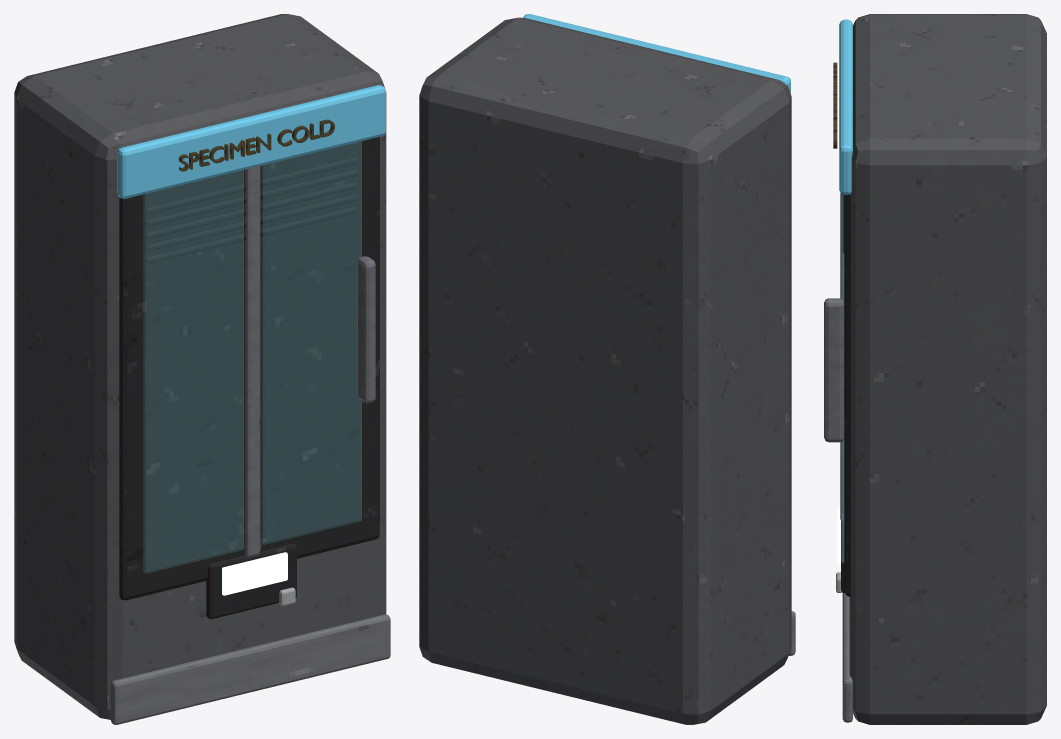
The model's file is decor_med_specimen_cold.glb.
The picture shows the model from 3 angles, left to right: view 1: azimuth 30°, elevation 25°; view 2: azimuth 150°, elevation 25°; view 3: azimuth 270°, elevation 25°; orthographic projection.
Parts seen in each view (by area): view 1: DEC_MedSpecimenCold__Cabinet_Body, DEC_MedSpecimenCold__Door_Frame, DEC_MedSpecimenCold__Door_Glass_1, DEC_MedSpecimenCold__Door_Glass_2, DEC_MedSpecimenCold__Kick_Plate, DEC_MedSpecimenCold__Header, DEC_MedSpecimenCold__Door_Mullion, DEC_MedSpecimenCold__Control_Panel, DEC_MedSpecimenCold__Door_Handle, DEC_MedSpecimenCold__Temperature_Readout, DEC_MedSpecimenCold__Header_Text, DEC_MedSpecimenCold__Vent_Slat_1 (+4 smaller); view 2: DEC_MedSpecimenCold__Cabinet_Body, DEC_MedSpecimenCold__Header; view 3: DEC_MedSpecimenCold__Cabinet_Body, DEC_MedSpecimenCold__Door_Handle, DEC_MedSpecimenCold__Door_Frame, DEC_MedSpecimenCold__Header, DEC_MedSpecimenCold__Kick_Plate, DEC_MedSpecimenCold__Door_Glass_2, DEC_MedSpecimenCold__Door_Mullion, DEC_MedSpecimenCold__Header_Text.
Boxes of the visible parts, x1=… form: DEC_MedSpecimenCold__Cabinet_Body: x1=14, y1=14, x2=386, y2=719; DEC_MedSpecimenCold__Door_Frame: x1=119, y1=137, x2=379, y2=600; DEC_MedSpecimenCold__Door_Glass_1: x1=143, y1=170, x2=243, y2=573; DEC_MedSpecimenCold__Door_Glass_2: x1=261, y1=141, x2=361, y2=544; DEC_MedSpecimenCold__Kick_Plate: x1=110, y1=614, x2=390, y2=724; DEC_MedSpecimenCold__Header: x1=117, y1=85, x2=385, y2=198; DEC_MedSpecimenCold__Door_Mullion: x1=245, y1=165, x2=260, y2=557; DEC_MedSpecimenCold__Control_Panel: x1=206, y1=543, x2=296, y2=618; DEC_MedSpecimenCold__Door_Handle: x1=357, y1=256, x2=375, y2=403; DEC_MedSpecimenCold__Temperature_Readout: x1=222, y1=552, x2=287, y2=595; DEC_MedSpecimenCold__Header_Text: x1=178, y1=119, x2=334, y2=171; DEC_MedSpecimenCold__Vent_Slat_1: x1=146, y1=157, x2=358, y2=214; DEC_MedSpecimenCold__Cabinet_Body: x1=419, y1=17, x2=791, y2=724; DEC_MedSpecimenCold__Header: x1=523, y1=14, x2=790, y2=93; DEC_MedSpecimenCold__Cabinet_Body: x1=849, y1=14, x2=1046, y2=724; DEC_MedSpecimenCold__Door_Handle: x1=824, y1=298, x2=844, y2=442; DEC_MedSpecimenCold__Door_Frame: x1=844, y1=194, x2=850, y2=596; DEC_MedSpecimenCold__Header: x1=839, y1=19, x2=852, y2=194; DEC_MedSpecimenCold__Kick_Plate: x1=842, y1=593, x2=852, y2=722; DEC_MedSpecimenCold__Door_Glass_2: x1=841, y1=194, x2=844, y2=562; DEC_MedSpecimenCold__Door_Mullion: x1=840, y1=193, x2=844, y2=521; DEC_MedSpecimenCold__Header_Text: x1=833, y1=62, x2=837, y2=148.
Size of the model in its own units: 0.98 by 1.9 by 0.655.
11 materials, 4 textured.
